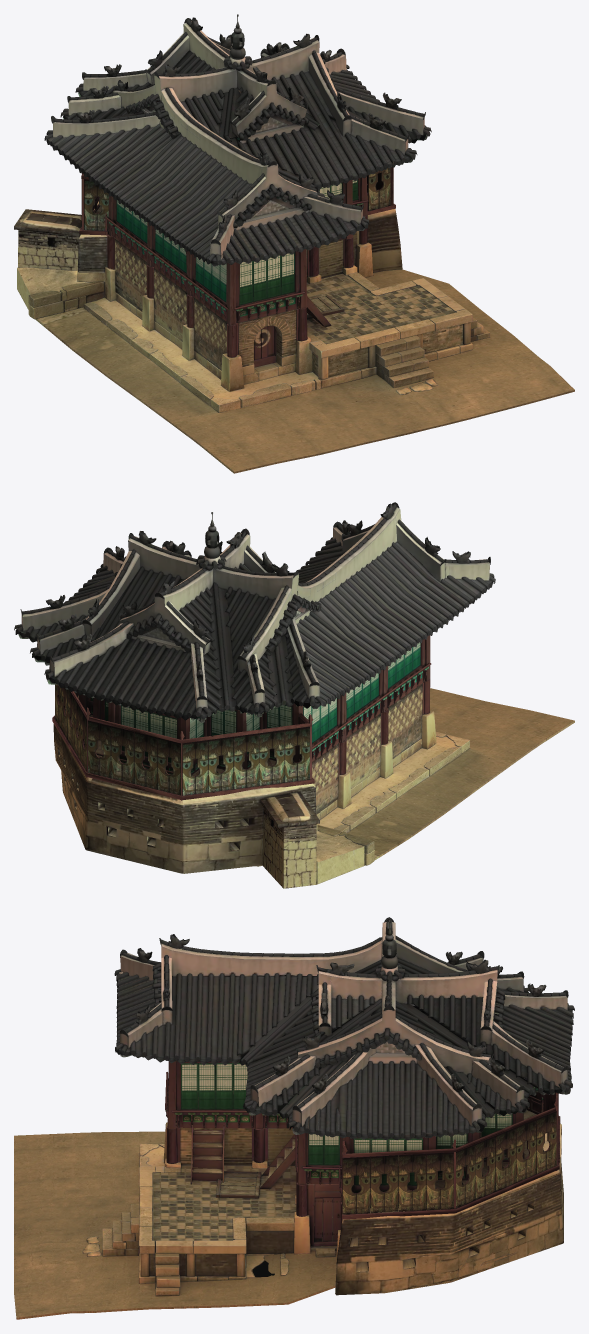
Rendered from 04.banghwa_opt.glb.
3 renders of one model, top to bottom at view 1: azimuth 30°, elevation 25°; view 2: azimuth 150°, elevation 25°; view 3: azimuth 270°, elevation 25°, orthographic. The views are drawn at different scales.
Visible parts, largest first — view 1: 05_방화수류정_AR_01, 05_방화수류정_AR_03_A, 05_방화수류정_AR_03_B, 05_방화수류정_AR_02_A, 05_방화수류정_AR_02_C, 05_방화수류정_AR_02_B; view 2: 05_방화수류정_AR_01, 05_방화수류정_AR_03_A, 05_방화수류정_AR_02_B, 05_방화수류정_AR_03_B, 05_방화수류정_AR_02_A, 05_방화수류정_AR_02_C; view 3: 05_방화수류정_AR_01, 05_방화수류정_AR_03_A, 05_방화수류정_AR_03_B, 05_방화수류정_AR_02_B, 05_방화수류정_AR_02_C, 05_방화수류정_AR_02_A.
Part boxes in pixels (box(x1,y1,x2,y2)): 05_방화수류정_AR_01: box(44, 14, 431, 266); 05_방화수류정_AR_03_A: box(14, 201, 489, 412); 05_방화수류정_AR_03_B: box(35, 269, 574, 473); 05_방화수류정_AR_02_A: box(84, 176, 368, 325); 05_방화수류정_AR_02_C: box(116, 179, 358, 305); 05_방화수류정_AR_02_B: box(79, 167, 395, 235); 05_방화수류정_AR_01: box(14, 502, 495, 722); 05_방화수류정_AR_03_A: box(53, 679, 469, 888); 05_방화수류정_AR_02_B: box(52, 684, 314, 800); 05_방화수류정_AR_03_B: box(68, 688, 574, 866); 05_방화수류정_AR_02_A: box(59, 635, 431, 775); 05_방화수류정_AR_02_C: box(90, 642, 420, 762); 05_방화수류정_AR_01: box(114, 917, 574, 1140); 05_방화수류정_AR_03_A: box(83, 1122, 563, 1295); 05_방화수류정_AR_03_B: box(14, 1131, 517, 1319); 05_방화수류정_AR_02_B: box(342, 1092, 560, 1219); 05_방화수류정_AR_02_C: box(181, 1063, 512, 1185); 05_방화수류정_AR_02_A: box(165, 1060, 543, 1207).
Size of the model in its own units: 12.29 by 9.93 by 16.04.
6 materials, 6 textured.
